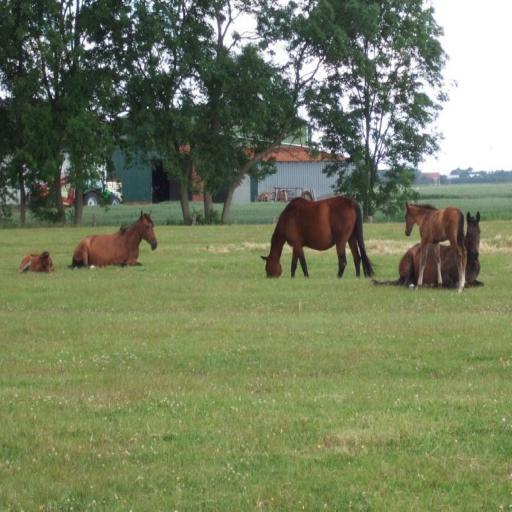horse: (260, 197, 378, 279), (396, 209, 482, 285), (404, 201, 468, 292), (71, 210, 157, 266), (18, 250, 54, 274)
